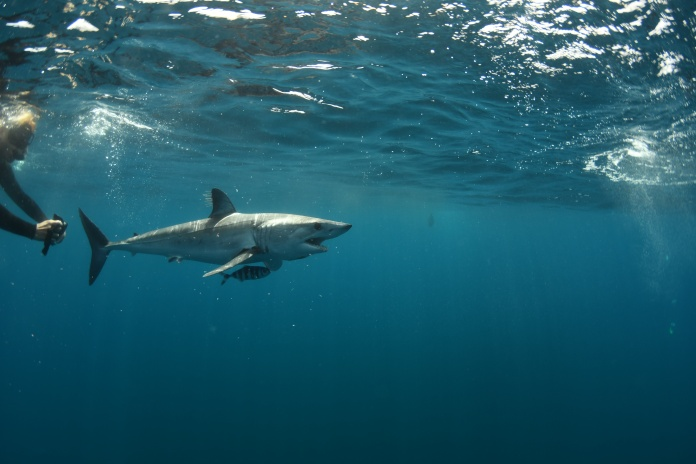Mako: (75, 186, 365, 299)
